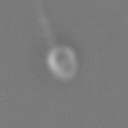normal: (27, 1, 61, 46)
